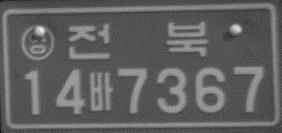1: (18, 69, 49, 115)
3: (156, 66, 187, 115)
4: (55, 69, 85, 115)
6: (194, 66, 226, 113)
7: (232, 65, 264, 113), (116, 67, 148, 114)
바: (88, 70, 113, 112)
영: (20, 24, 55, 61)
전북_D: (66, 20, 208, 60)
